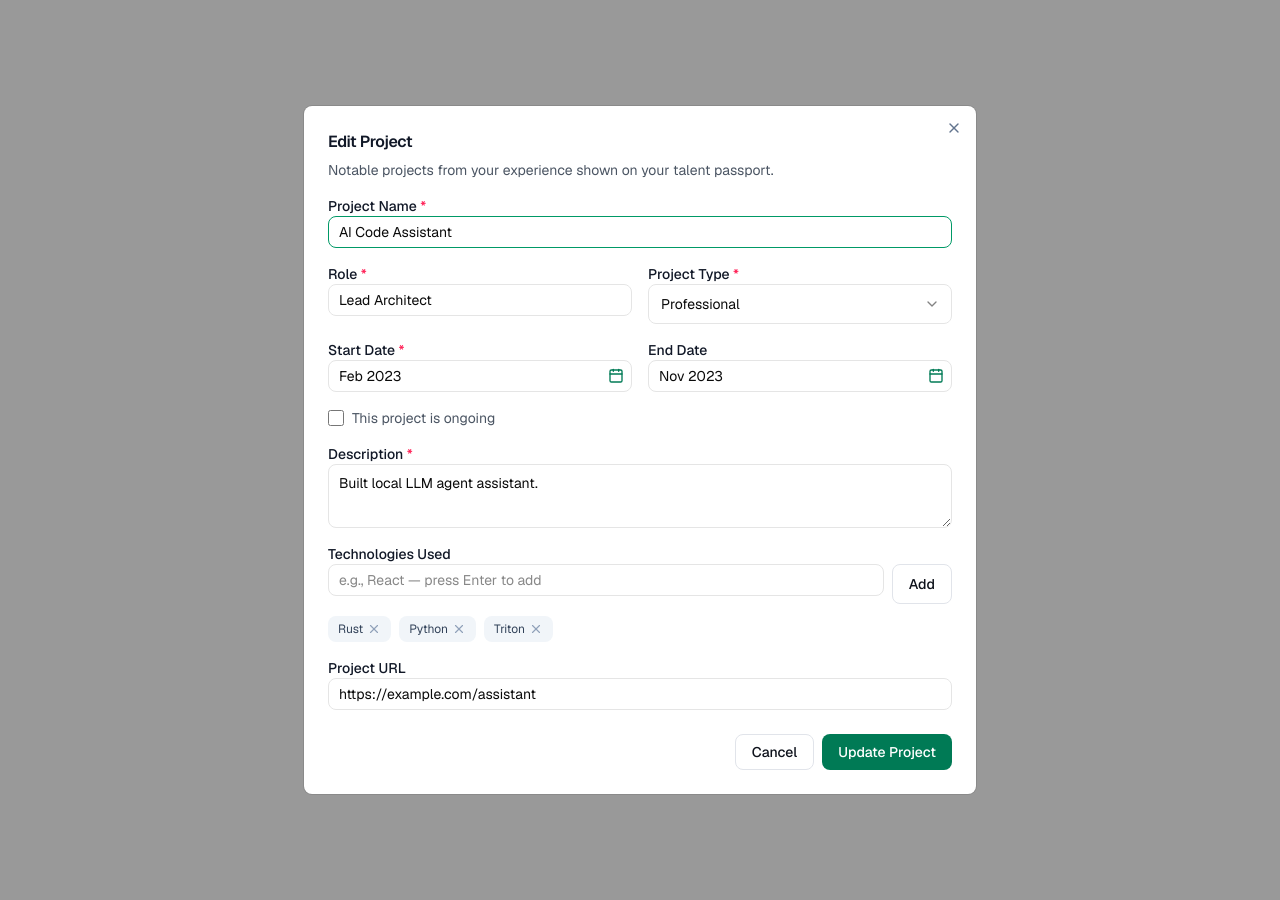
Test: EditProjectDialog › toggles ongoing checkbox, clears and disables End Date
Check: the field labelled "End Date" is enabled, box [648,360,952,392]
Check: the field labelled "End Date" holds "Nov 2023", box [648,360,952,392]
Step 1. Click the checkbox labelled "This project is ongoing" → coordinates (336, 418), box [328,410,344,426]
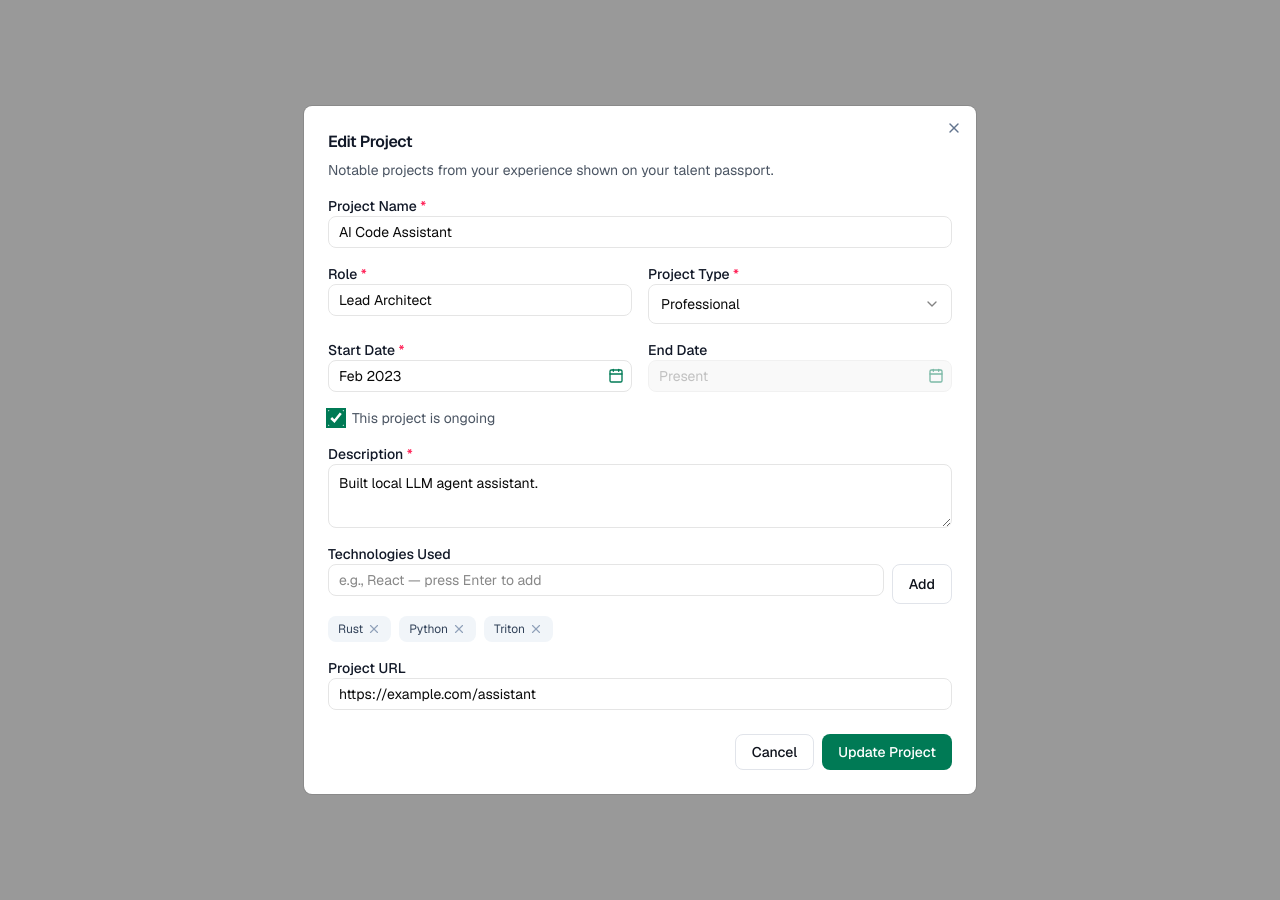
Check: the checkbox labelled "This project is ongoing" is checked, box [328,410,344,426]
Check: the field labelled "End Date" is disabled, box [648,360,952,392]
Check: the field labelled "End Date" is empty, box [648,360,952,392]
